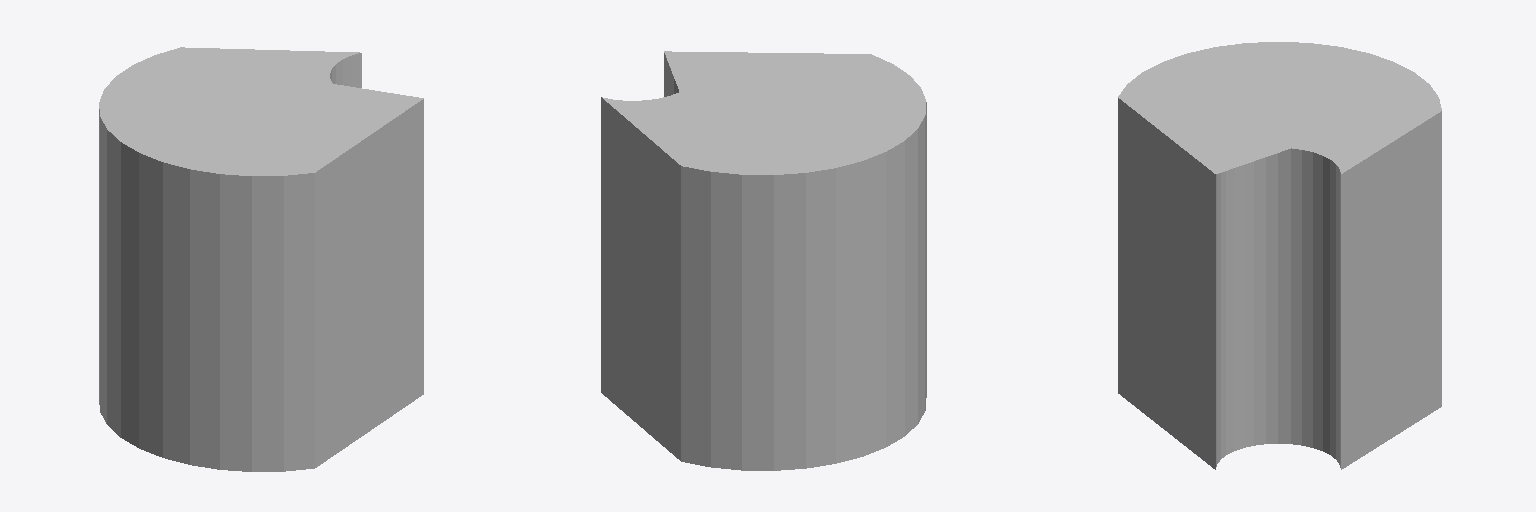
The model's file is 세종관중앙.obj.
3 renders of one model, left to right at view 1: azimuth 30°, elevation 25°; view 2: azimuth 150°, elevation 25°; view 3: azimuth 270°, elevation 25°, orthographic.
Visible parts, largest first — view 1: 실린더.002_실린더.006; view 2: 실린더.002_실린더.006; view 3: 실린더.002_실린더.006.
Part boxes in pixels (x1,y1,x2,y2): 실린더.002_실린더.006: (99, 47, 423, 471); 실린더.002_실린더.006: (601, 51, 926, 470); 실린더.002_실린더.006: (1118, 42, 1441, 469).
Bounding box in the file's own units: 1.92 × 1.99 × 1.98.